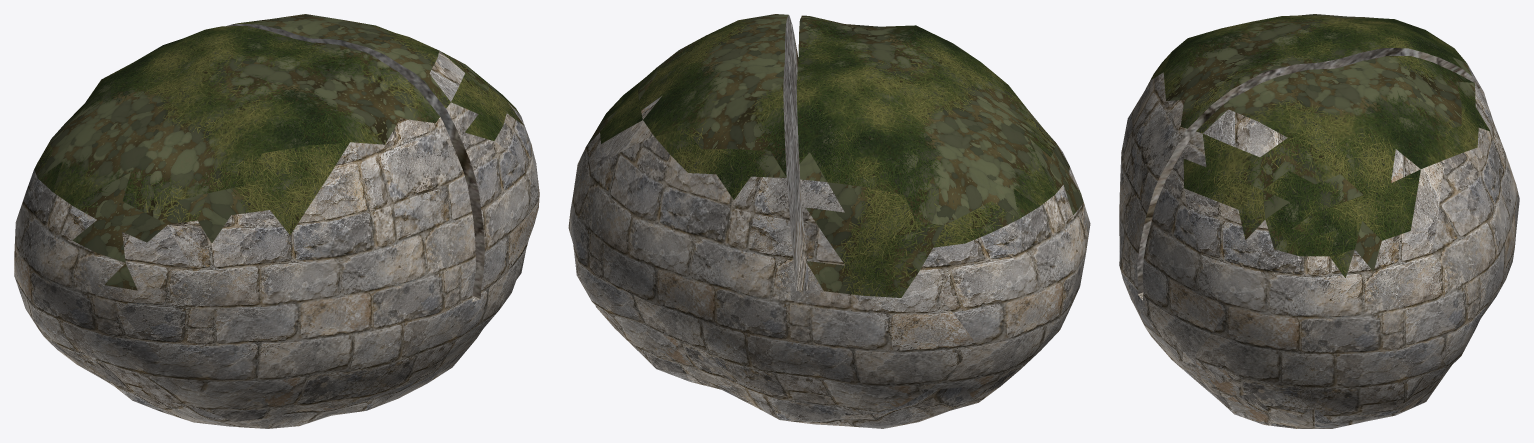
The model's file is cracked-boulder-v01.glb.
The picture shows the model from 3 angles, left to right: view 1: azimuth 30°, elevation 25°; view 2: azimuth 150°, elevation 25°; view 3: azimuth 270°, elevation 25°; orthographic projection. The views are drawn at different scales.
Visible parts, largest first — view 1: boulder; view 2: boulder; view 3: boulder.
Part boxes in pixels (x1,y1,x2,y2): boulder: [14, 14, 539, 428]; boulder: [568, 14, 1090, 428]; boulder: [1119, 14, 1519, 428].
Bounding box in the file's own units: 2.78 × 1.82 × 2.05.
2 materials, 2 textured.
